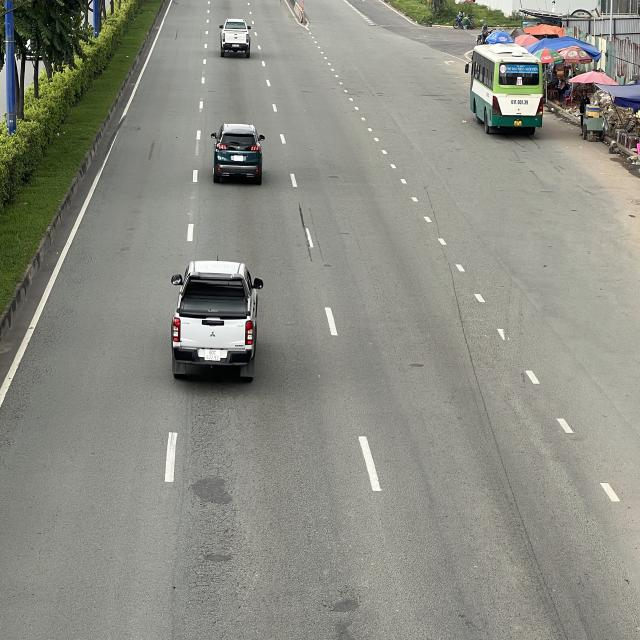car: (170, 262, 264, 384), (211, 123, 265, 184), (220, 17, 253, 56)
coach: (467, 42, 544, 133)
